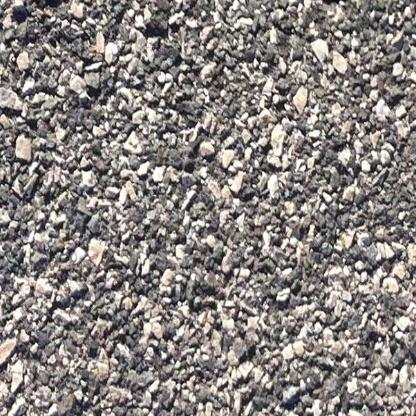Cracks: (298, 0, 389, 4)
